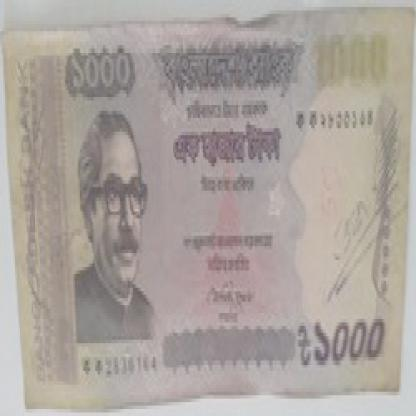One Thousand taka: (294, 312, 390, 371), (61, 45, 136, 108)
